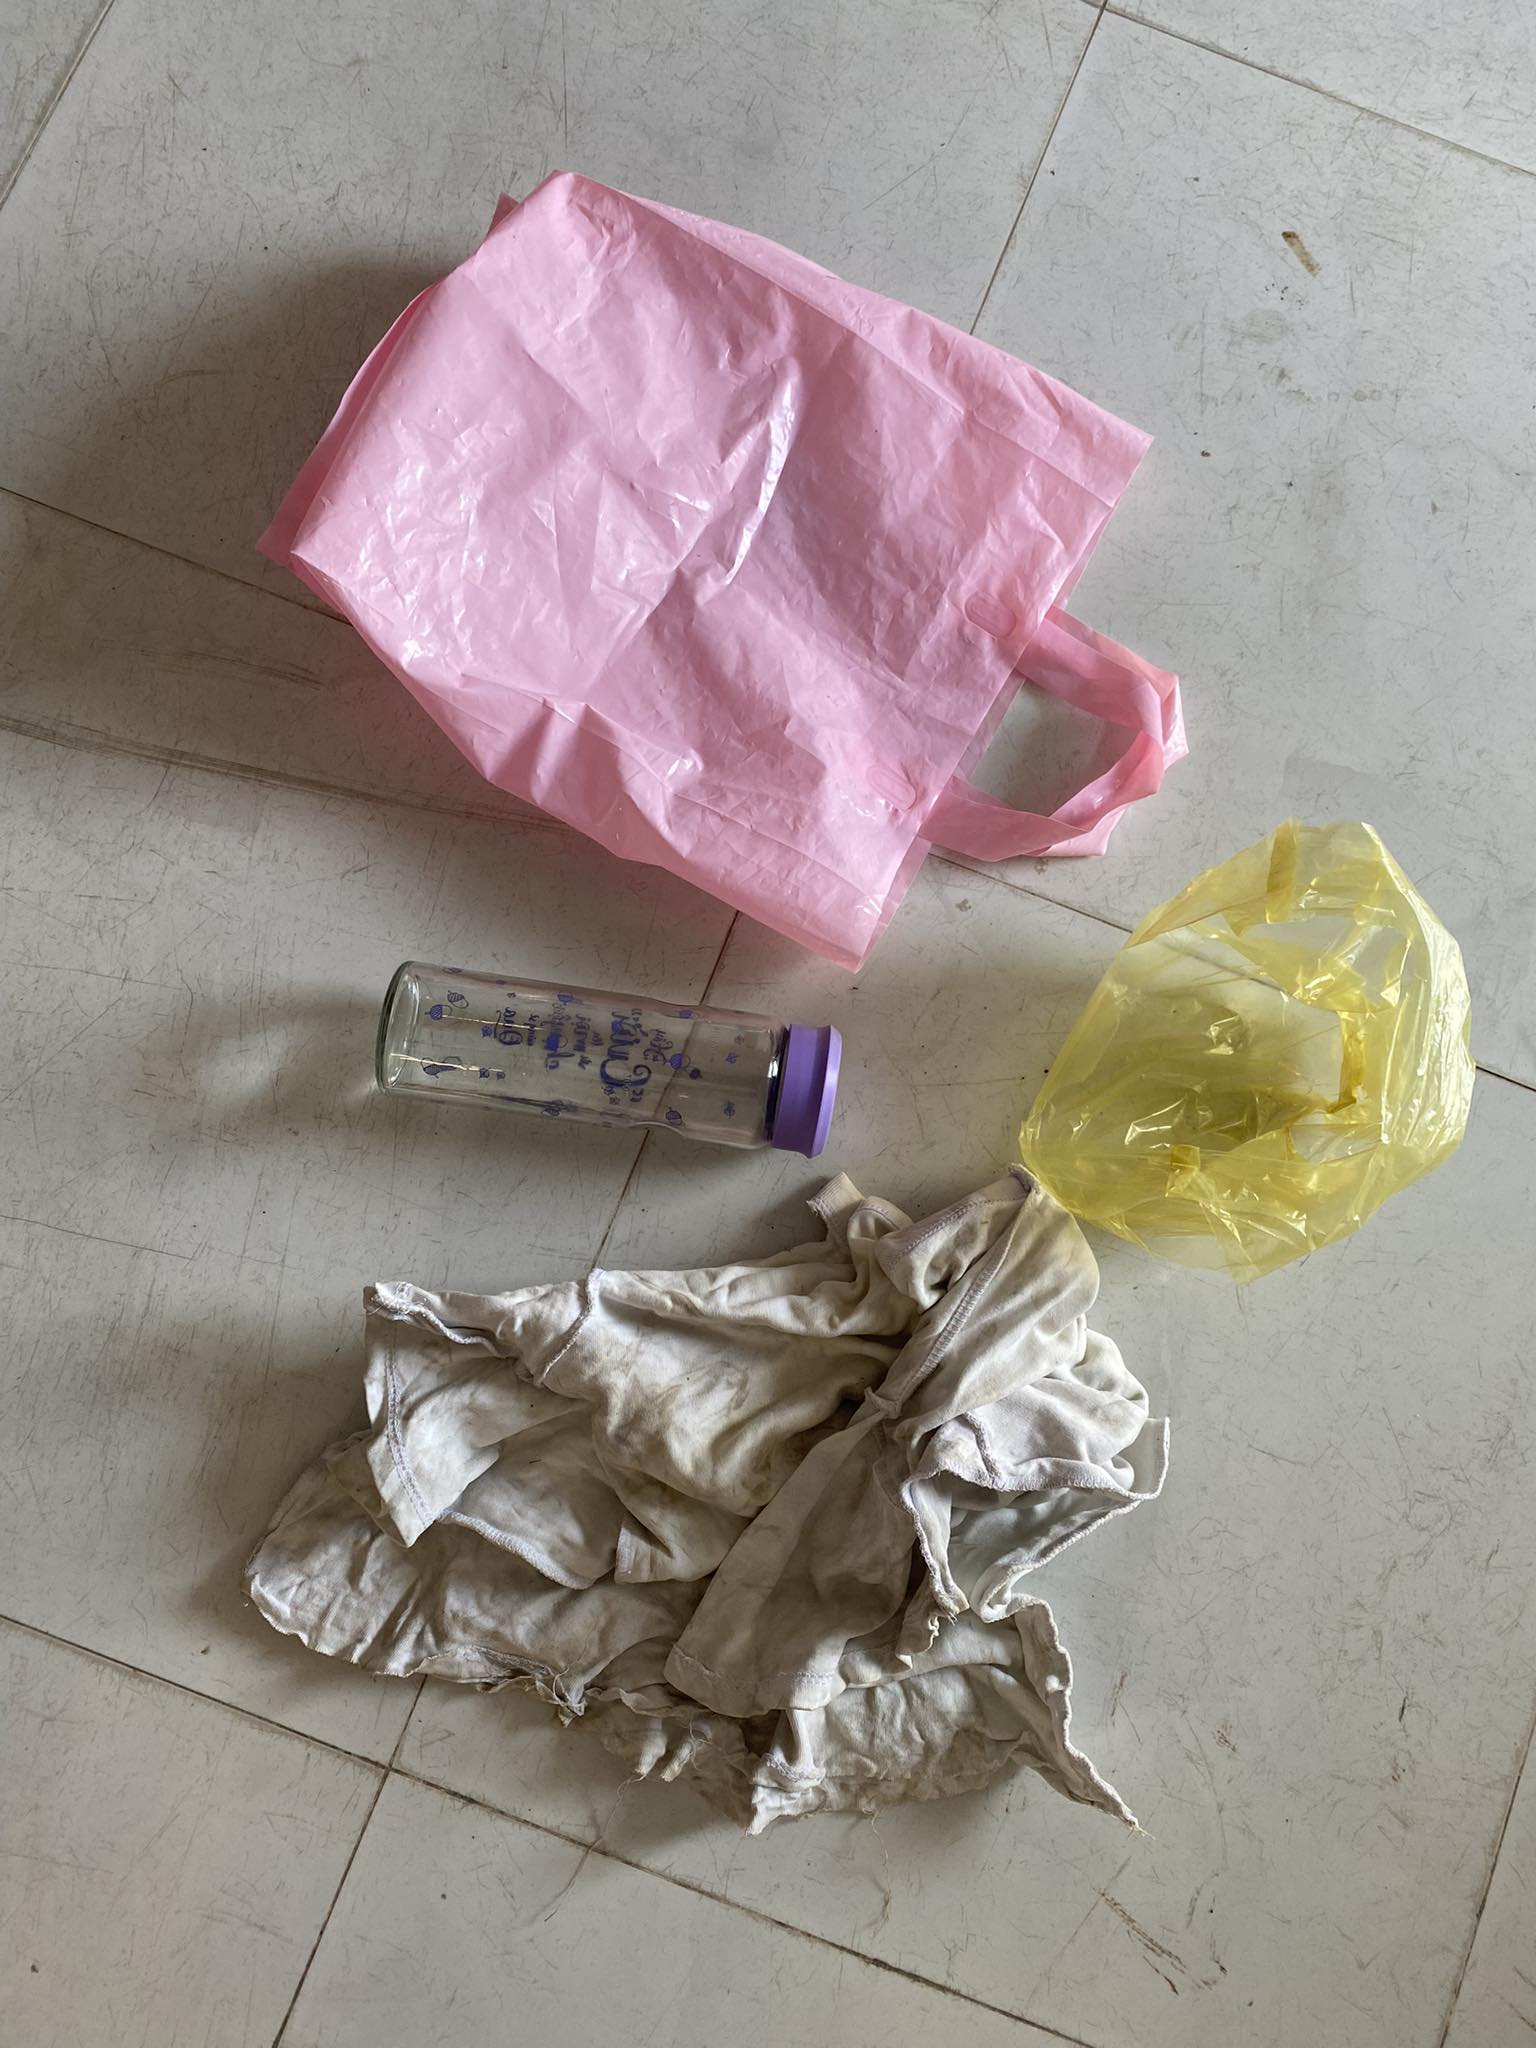clothes: (194, 1146, 1230, 1869)
metal: (343, 967, 879, 1169)
plastic bag: (255, 84, 1211, 967), (1013, 738, 1488, 1351)
